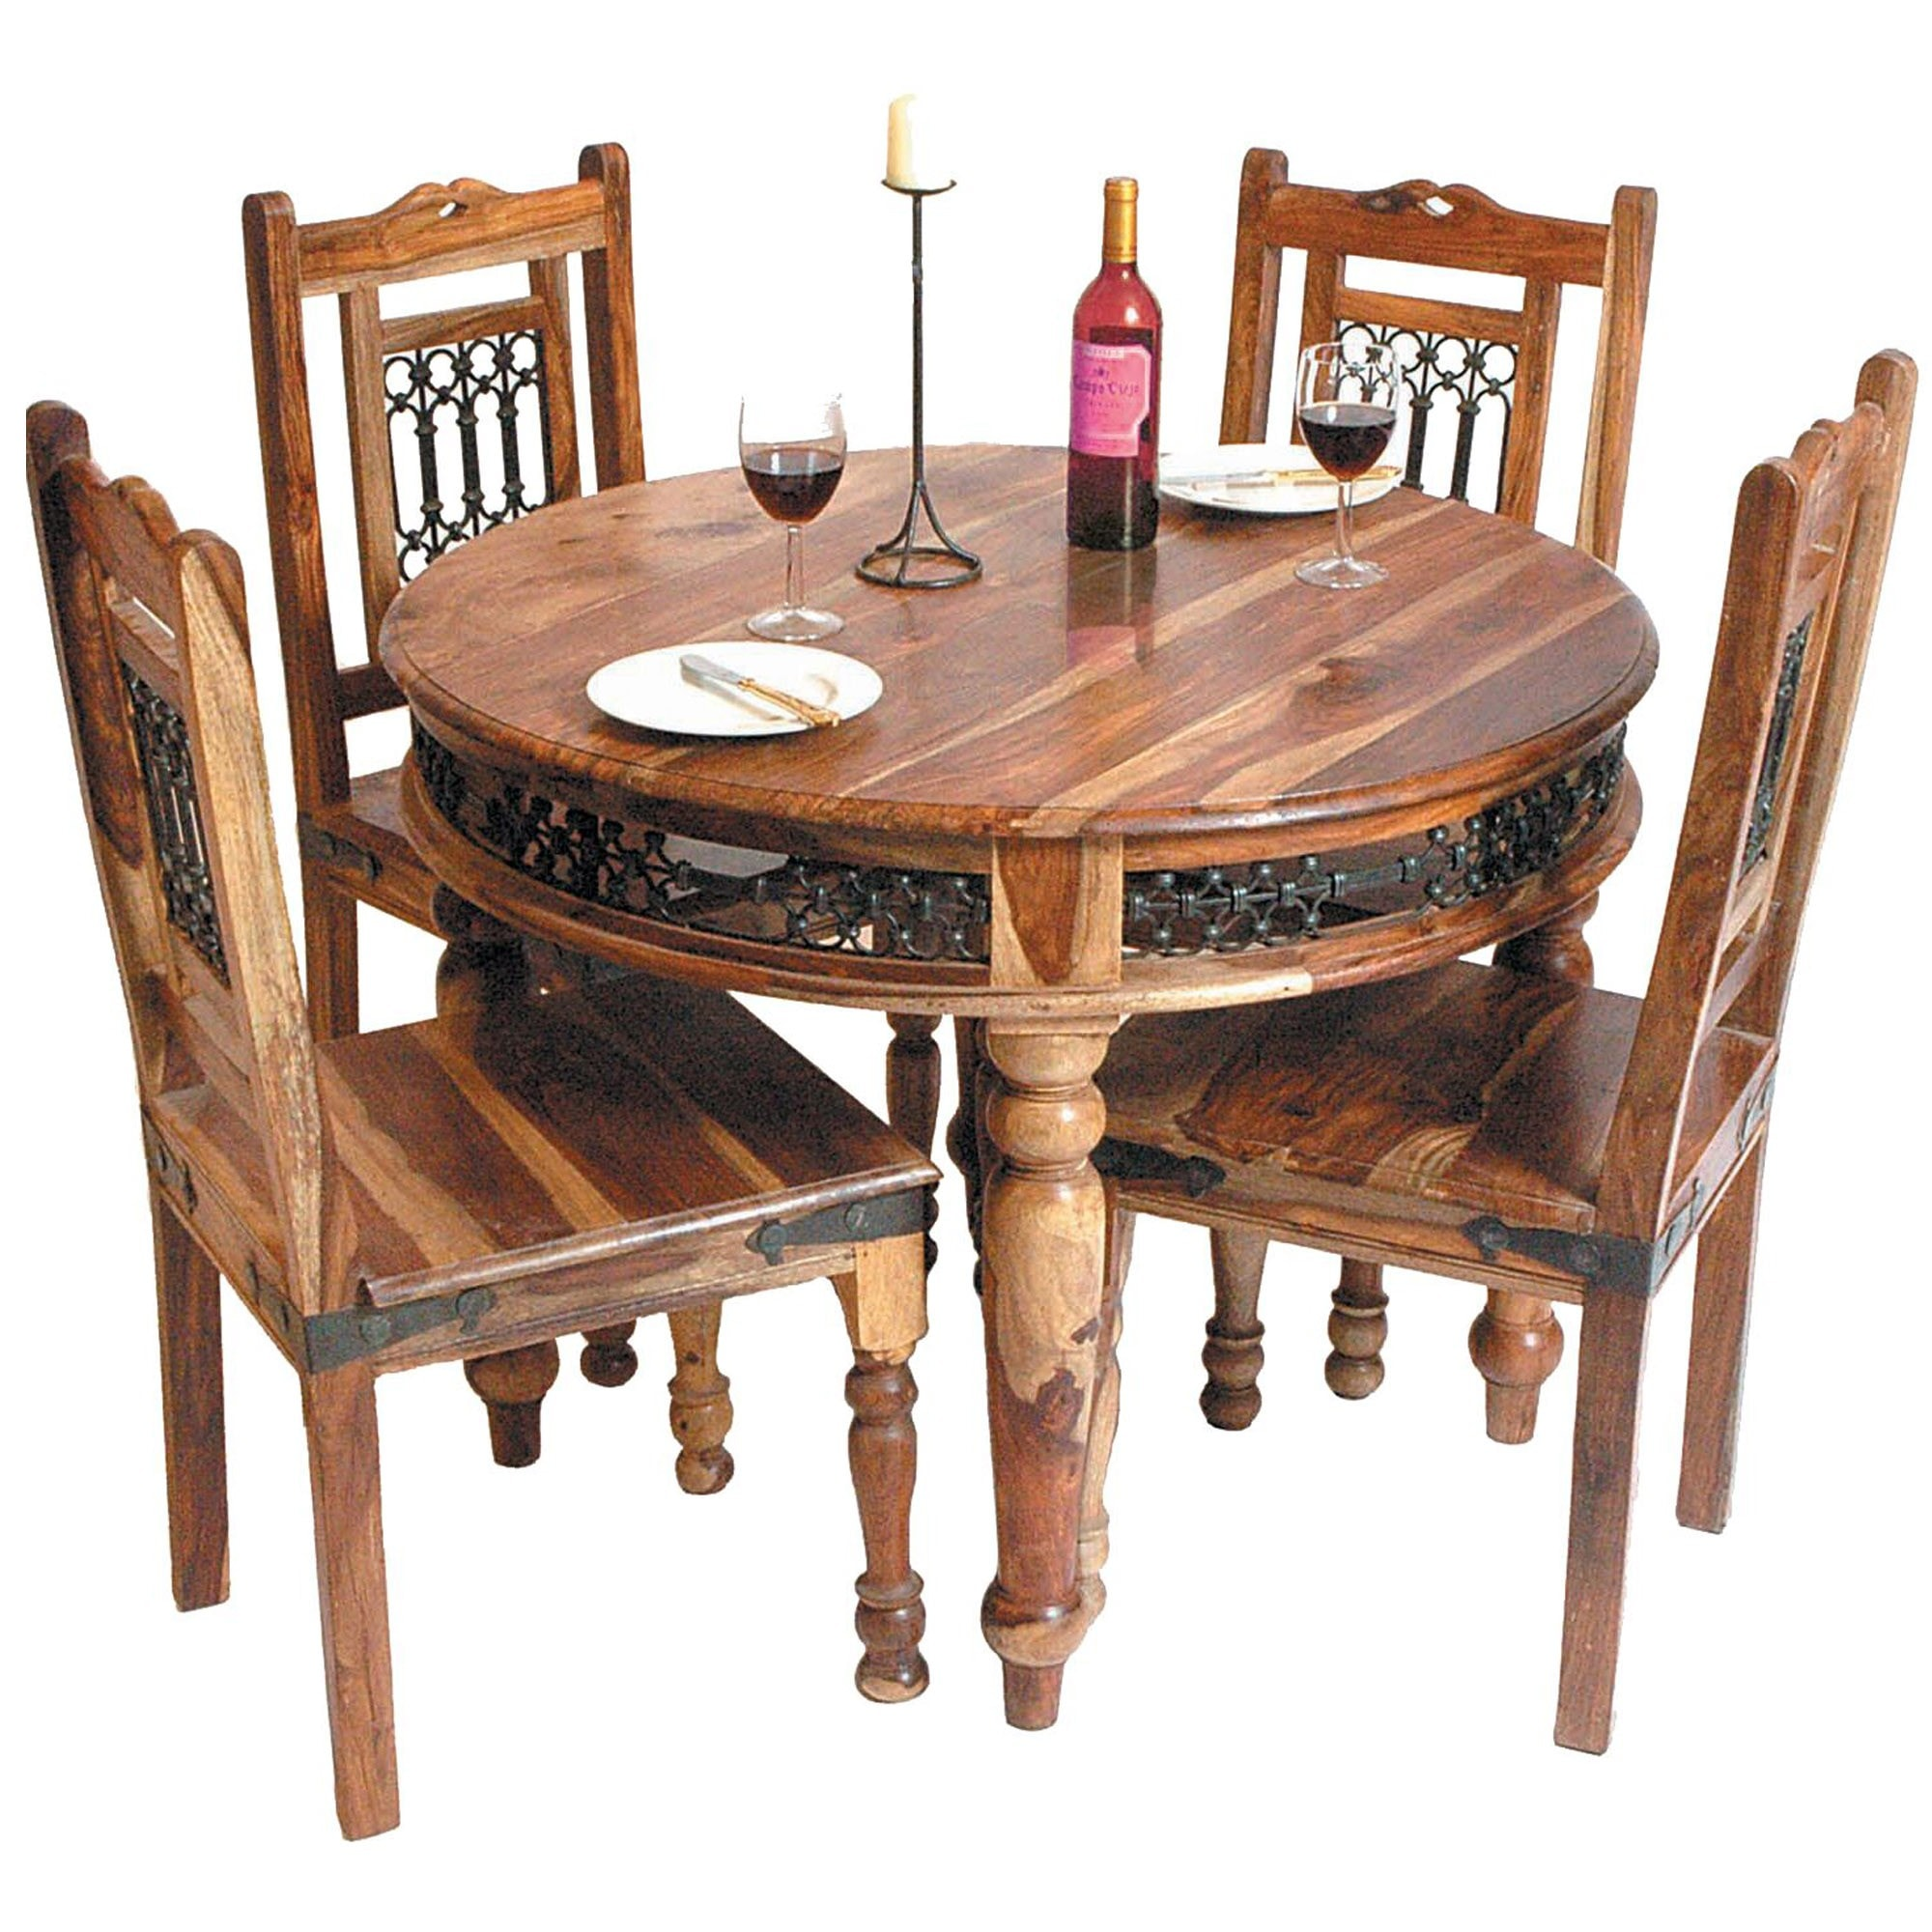bottle: (1072, 180, 1164, 556)
diningtable: (27, 143, 1932, 1840)
